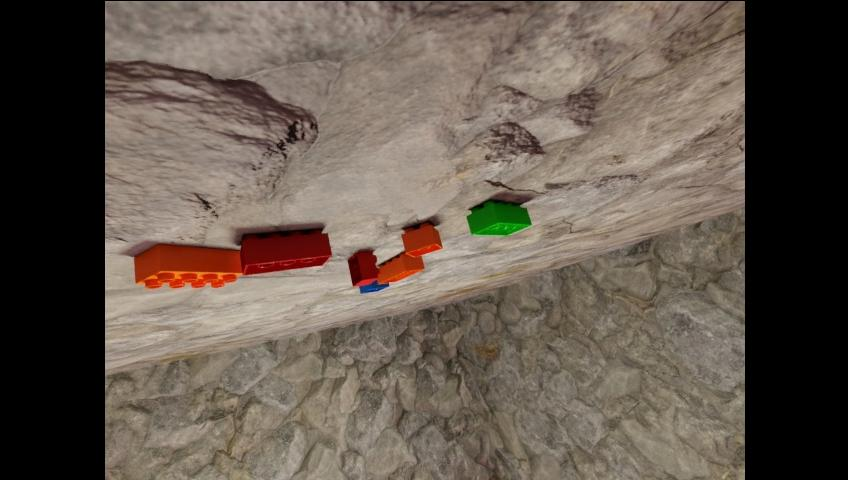2x2_blue: (359, 278, 389, 294)
2x2_orange: (401, 223, 443, 257)
2x2_red: (348, 251, 380, 287)
4x2_green: (466, 201, 532, 236)
4x2_orange: (134, 244, 242, 289), (377, 253, 424, 284)
4x2_red: (240, 230, 332, 276)
